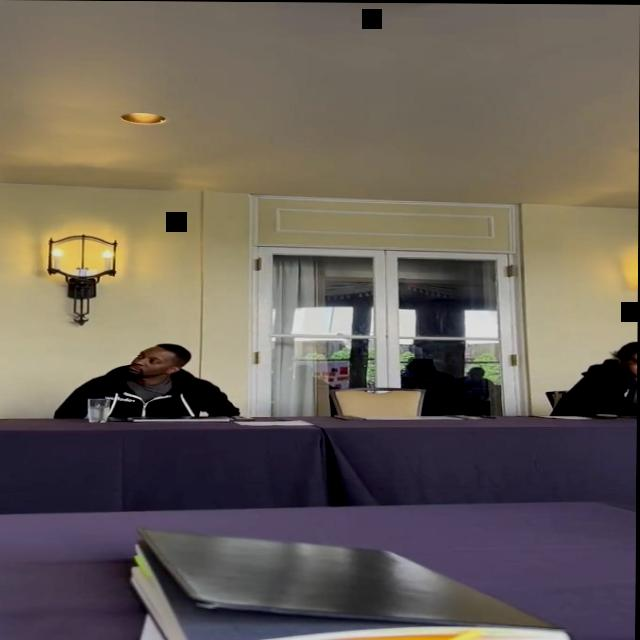NO-Mask: (129, 347, 183, 379), (628, 351, 638, 382)
